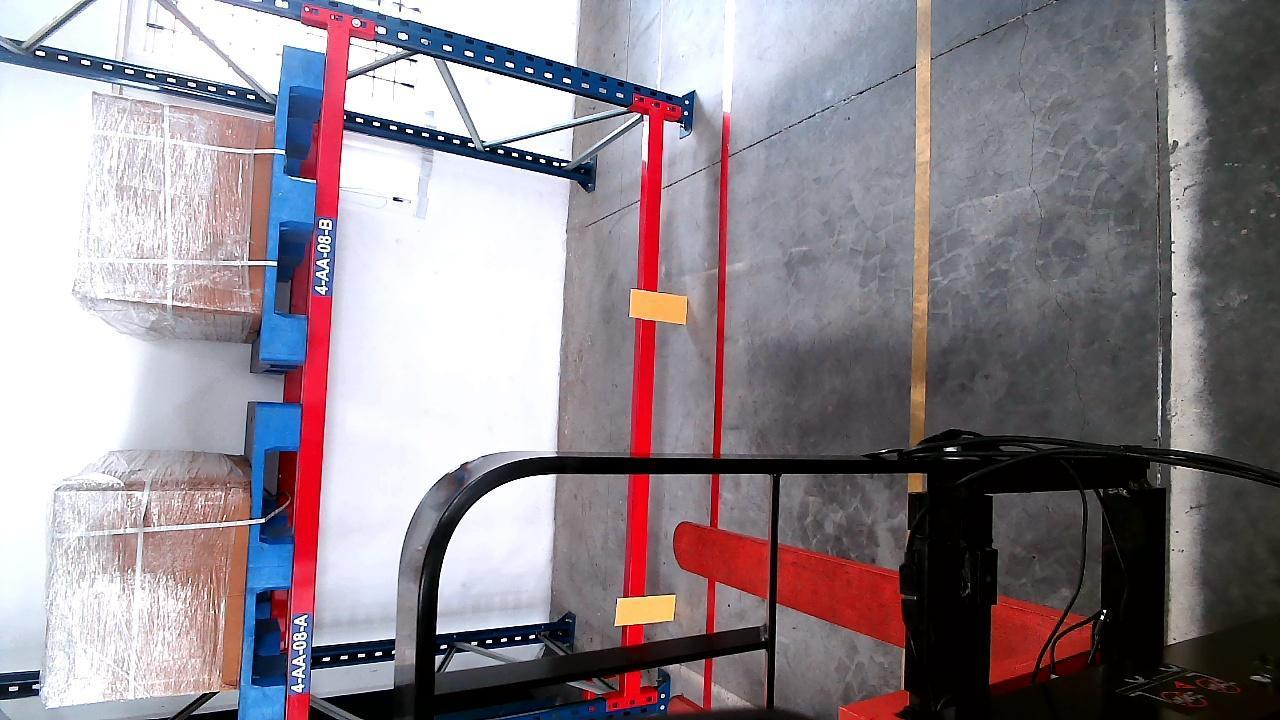h_rack: (290, 26, 348, 719), (620, 113, 661, 688)
orange_strip: (617, 594, 677, 625), (628, 290, 685, 322)
red_line: (704, 109, 732, 708)
small_pallet: (263, 45, 323, 362), (239, 402, 297, 719)
yellow_line: (909, 1, 935, 440)
